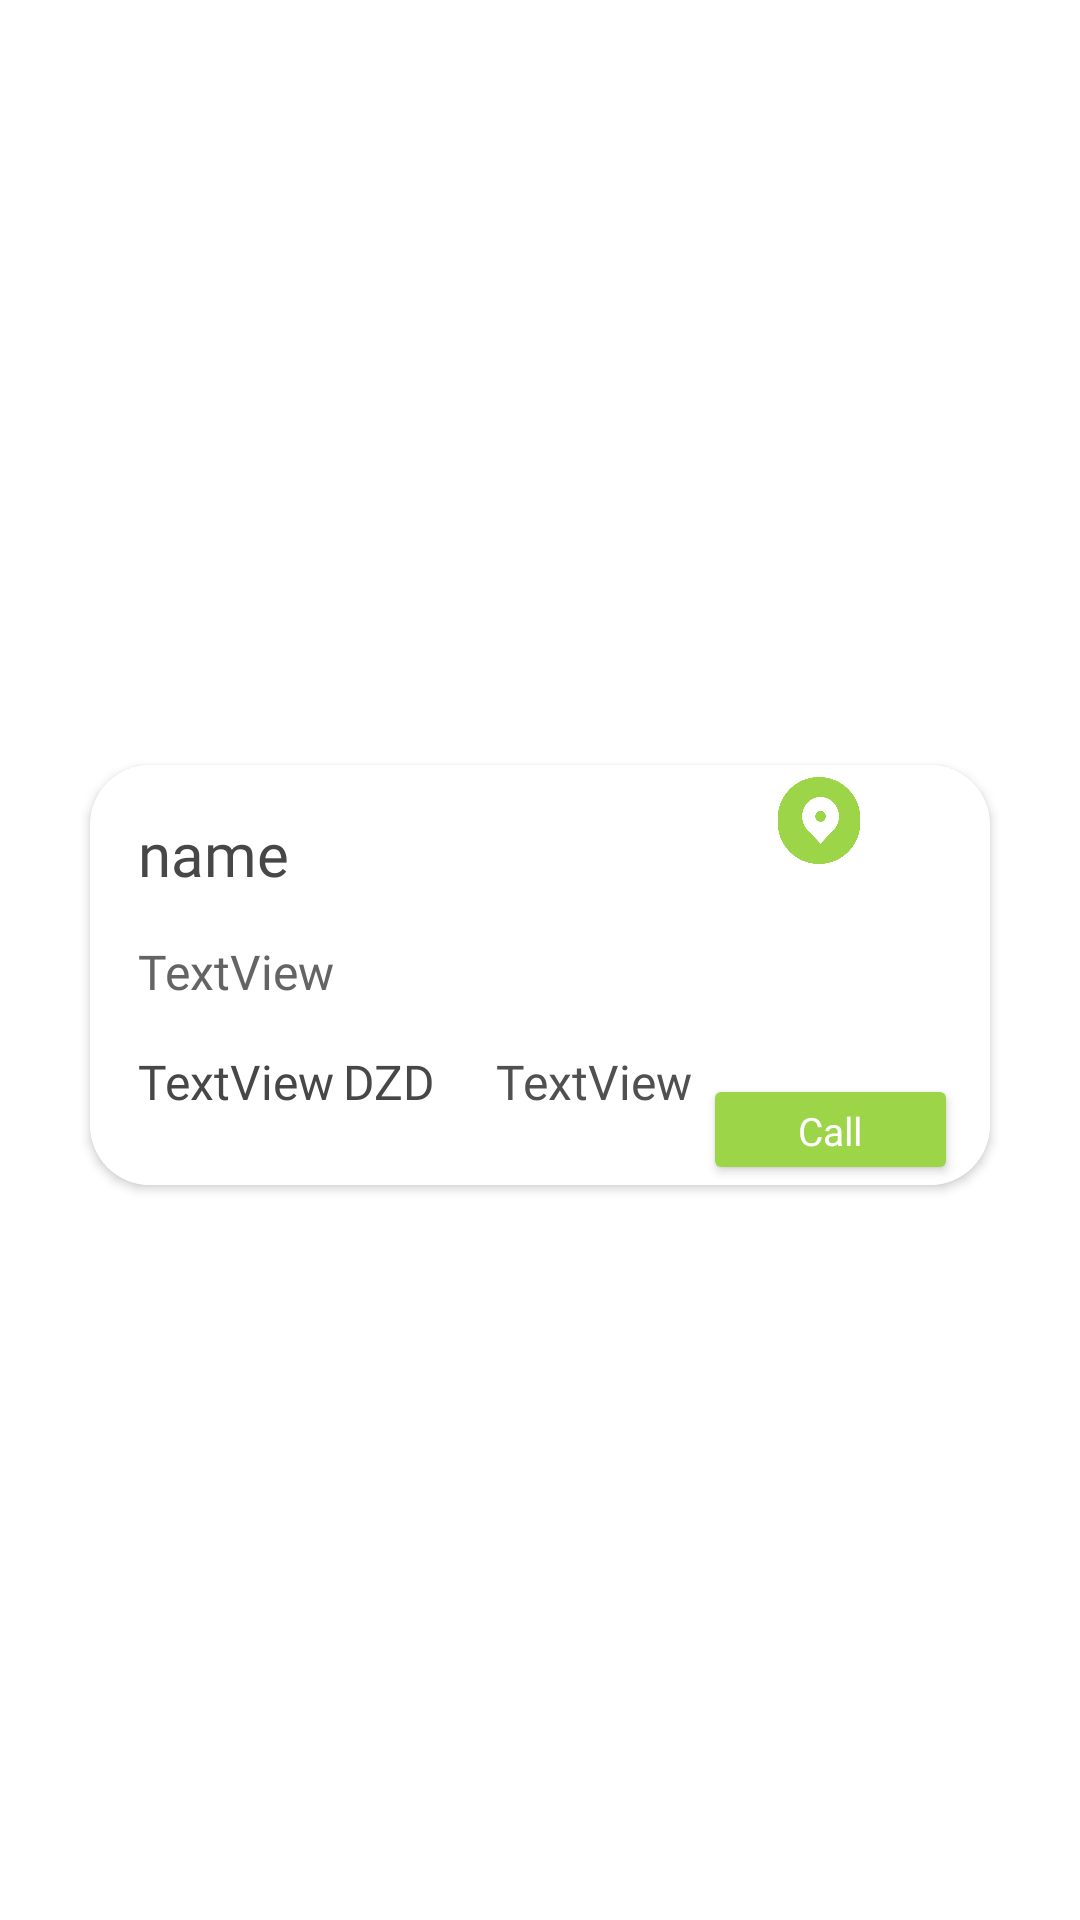

Icon bounding boxes for this 1080w x 1920h phone screenshot, format (x1=x1, y1=y1, x2=x2, y2=y2):
location: (x1=778, y1=777, x2=860, y2=864)
